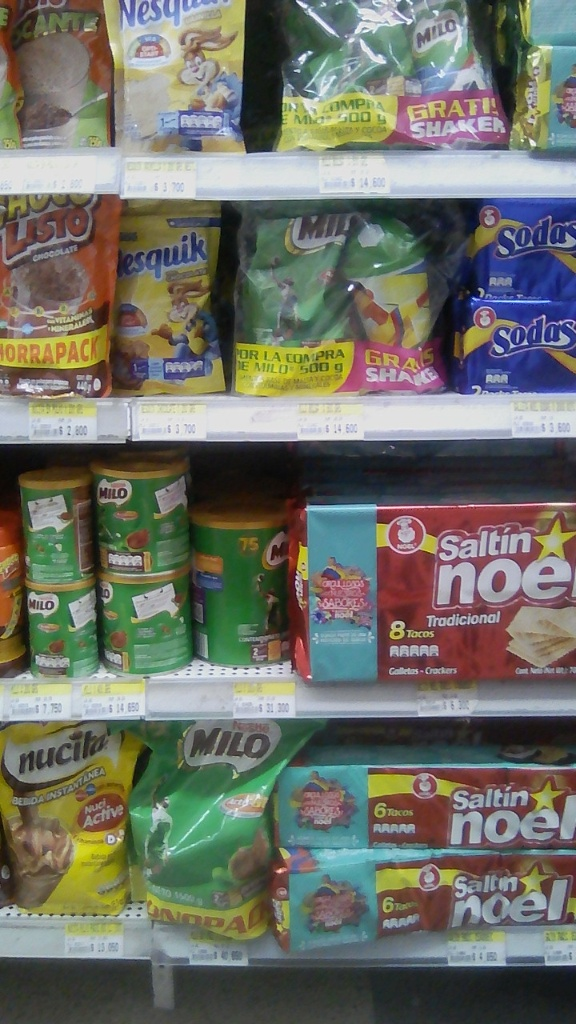COL0170103DYP44000: (2, 195, 122, 402)
COL0170203LAT20000: (22, 579, 102, 679)
COL0170203LAT40000: (95, 570, 195, 678)
COL0170303DYP20000: (113, 201, 230, 396)
